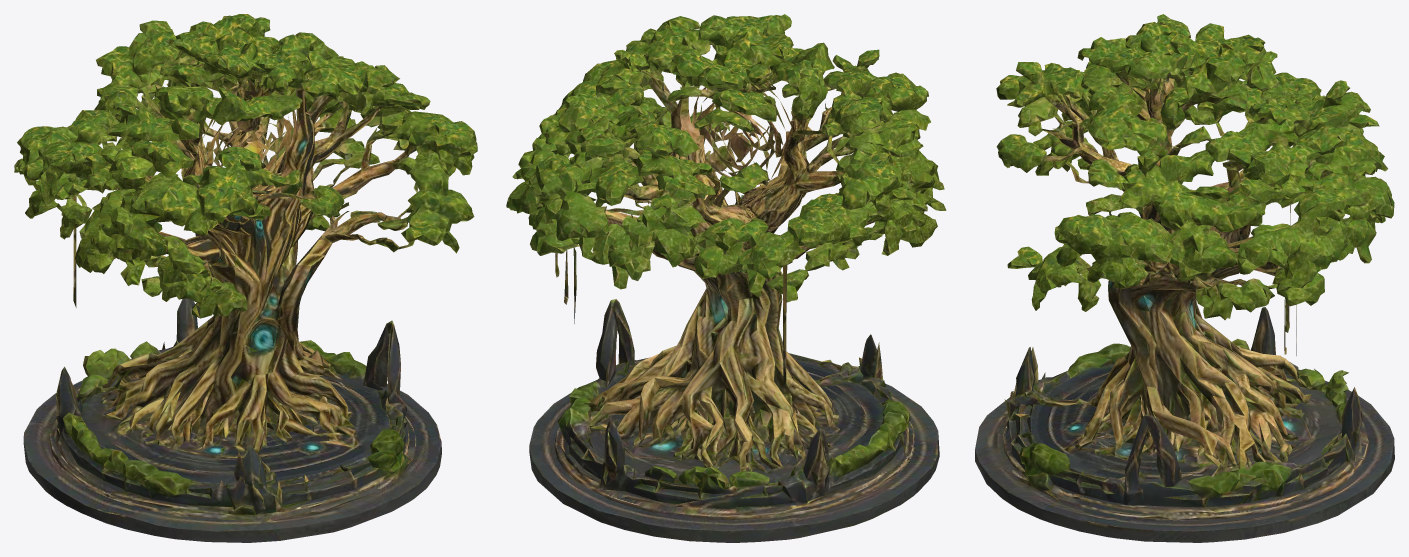
The model's file is tree-optimized.glb.
3 renders of one model, left to right at view 1: azimuth 30°, elevation 25°; view 2: azimuth 150°, elevation 25°; view 3: azimuth 270°, elevation 25°, orthographic.
Size of the model in its own units: 1.8 by 1.89 by 1.71.
Materials: 1 (1 with a texture image).
